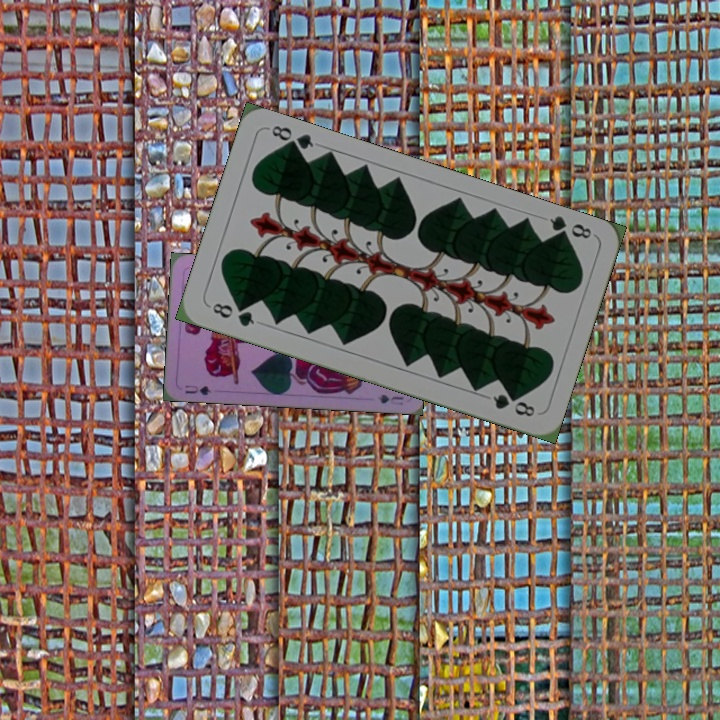G8: (545, 211, 594, 244), (205, 299, 257, 329)
GU: (181, 381, 213, 398)
